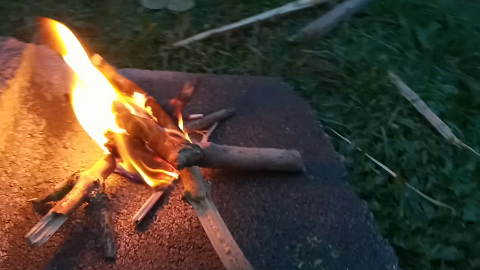fire: (30, 12, 218, 199)
